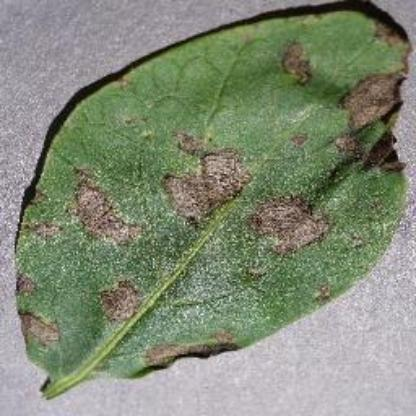Early-Blight: (12, 0, 413, 398)
